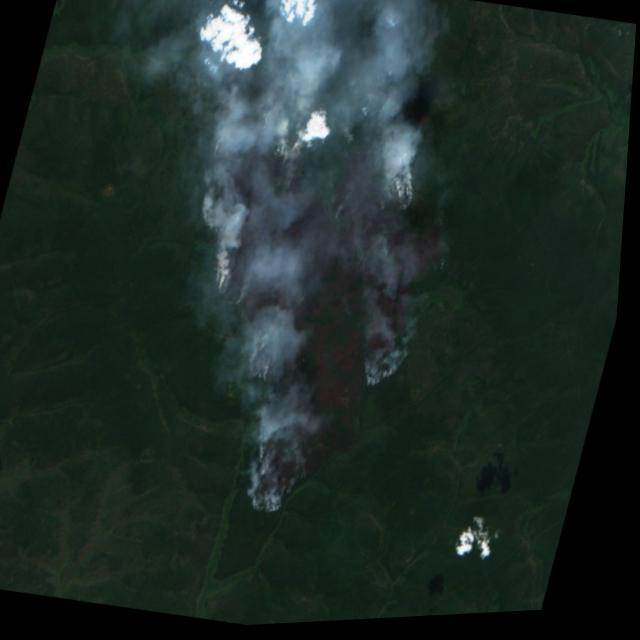fire: (243, 84, 323, 190), (237, 441, 313, 524), (358, 347, 416, 407), (243, 338, 292, 389), (379, 176, 422, 221), (202, 264, 241, 296), (198, 134, 232, 165)
